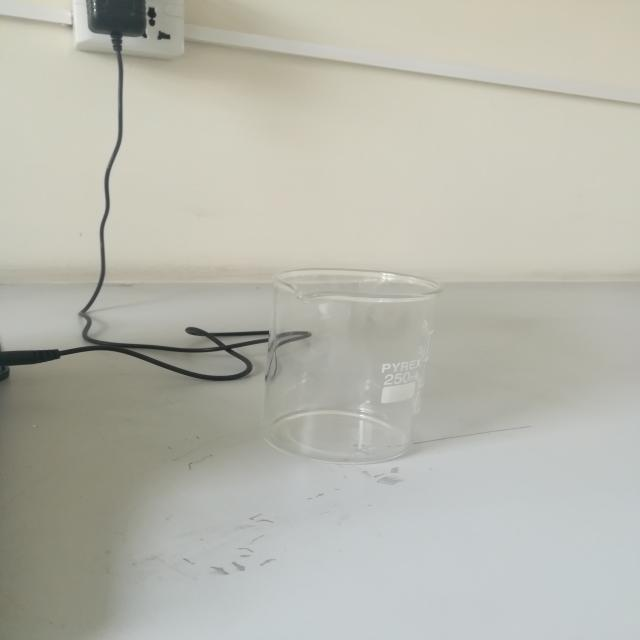Beaker: (222, 230, 485, 498)
